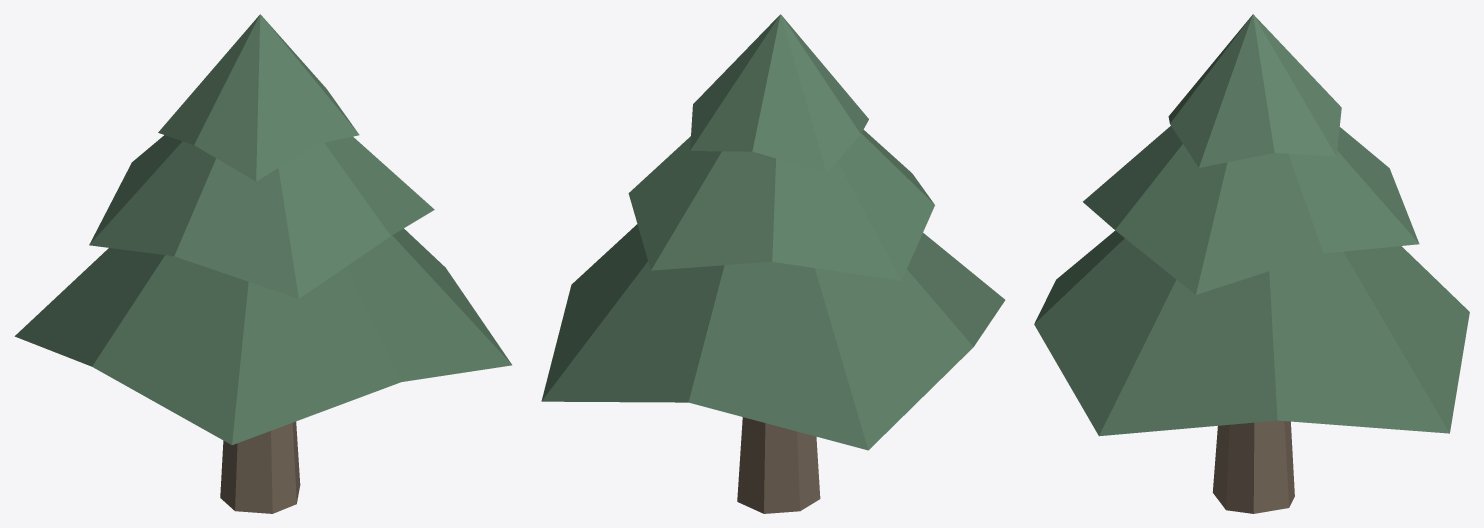
File: pine_3.glb
3 views of the same model, side by side, from view 1: azimuth 30°, elevation 25°; view 2: azimuth 150°, elevation 25°; view 3: azimuth 270°, elevation 25° (orthographic).
Visible parts, largest first — view 1: pine_3.001; view 2: pine_3.001; view 3: pine_3.001.
Part boxes in pixels (bbox=[...]): pine_3.001: bbox=[14, 14, 511, 513]; pine_3.001: bbox=[541, 14, 1005, 513]; pine_3.001: bbox=[1034, 14, 1469, 513].
Bounding box in the file's own units: 6.6 × 8.09 × 6.59.
